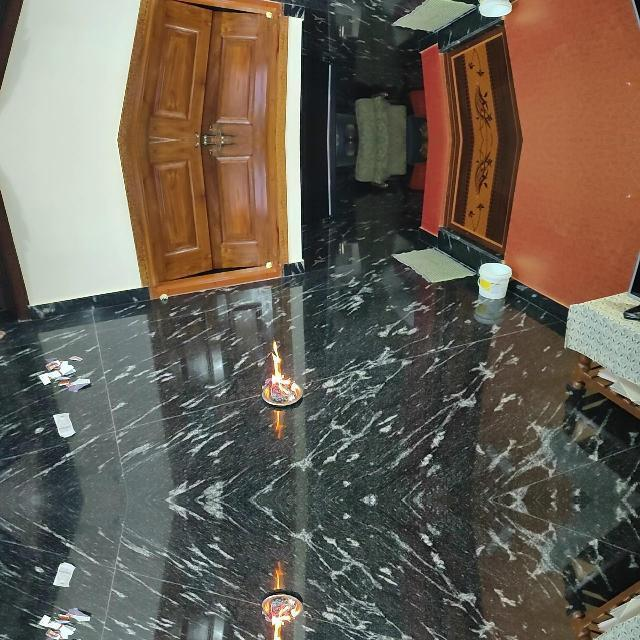smoke: (266, 338, 298, 397), (266, 603, 298, 640)
